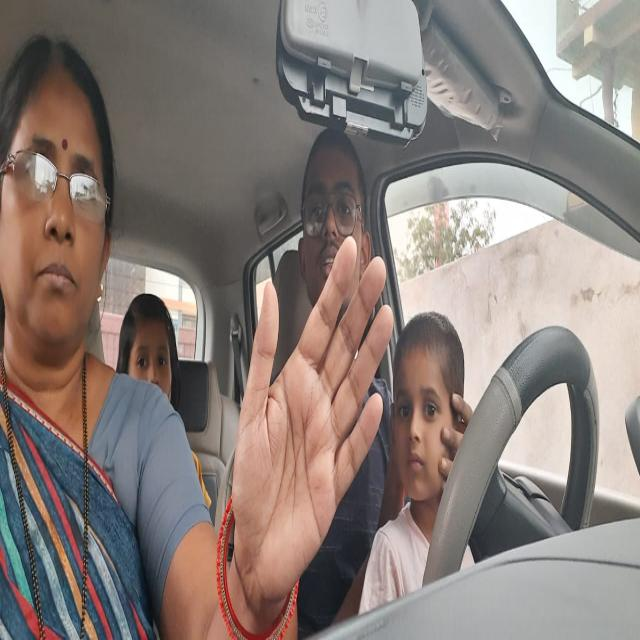child: (392, 308, 466, 510)
person: (0, 28, 119, 381), (300, 124, 376, 313), (116, 288, 182, 426)
